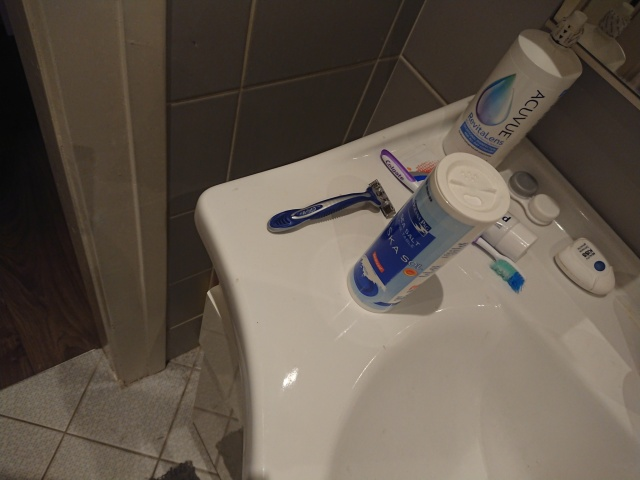Solana Pag Fine Sea Salt 250g: (344, 149, 514, 316)
